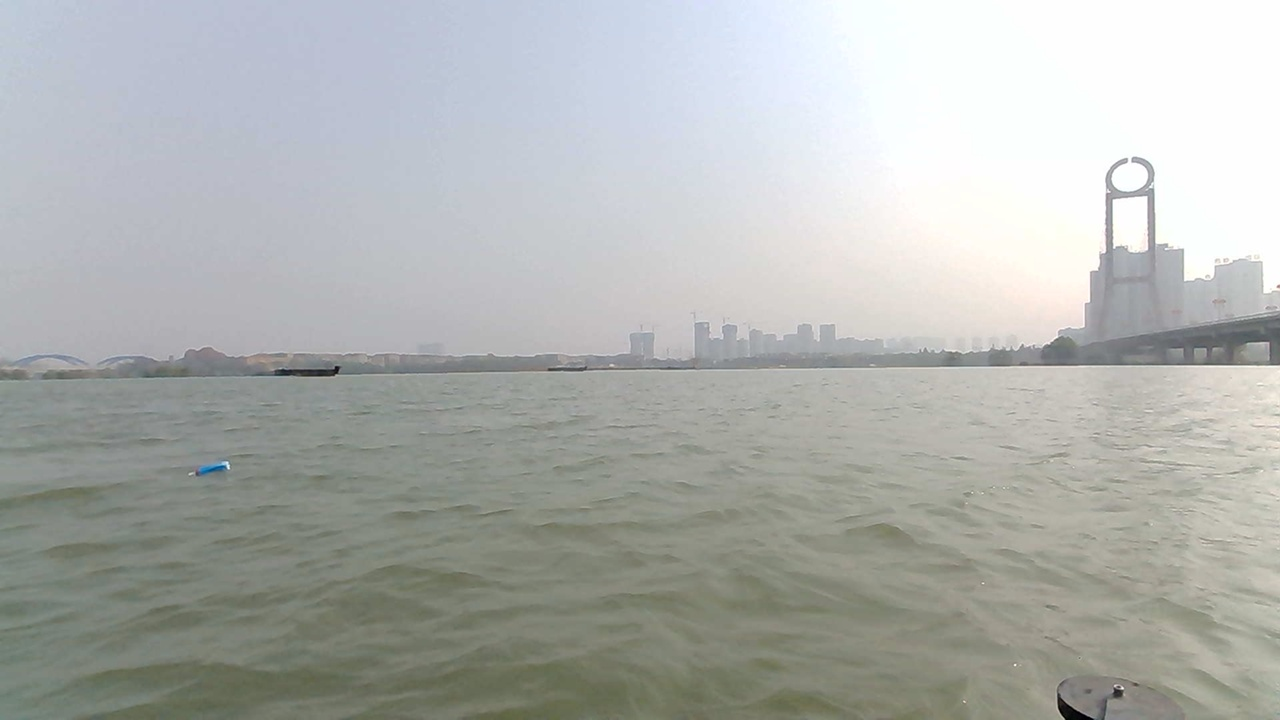bottle: (186, 458, 238, 483)
